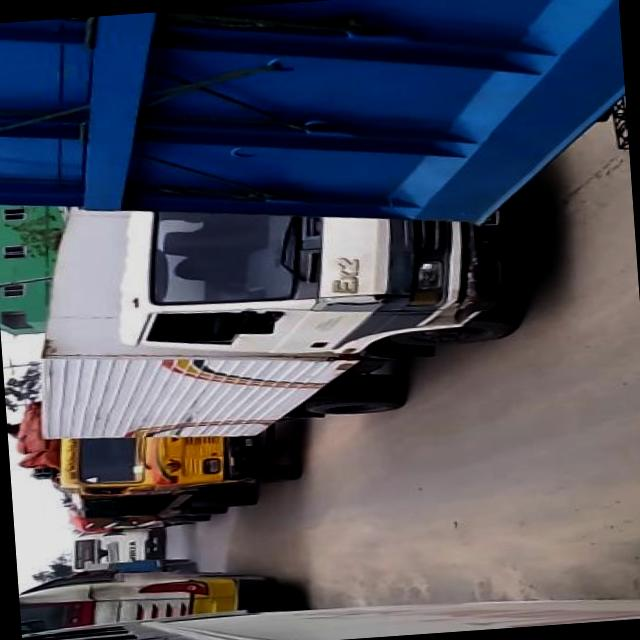bus: (18, 560, 268, 632), (62, 526, 160, 572)
truck: (16, 174, 526, 454), (51, 418, 301, 523)
